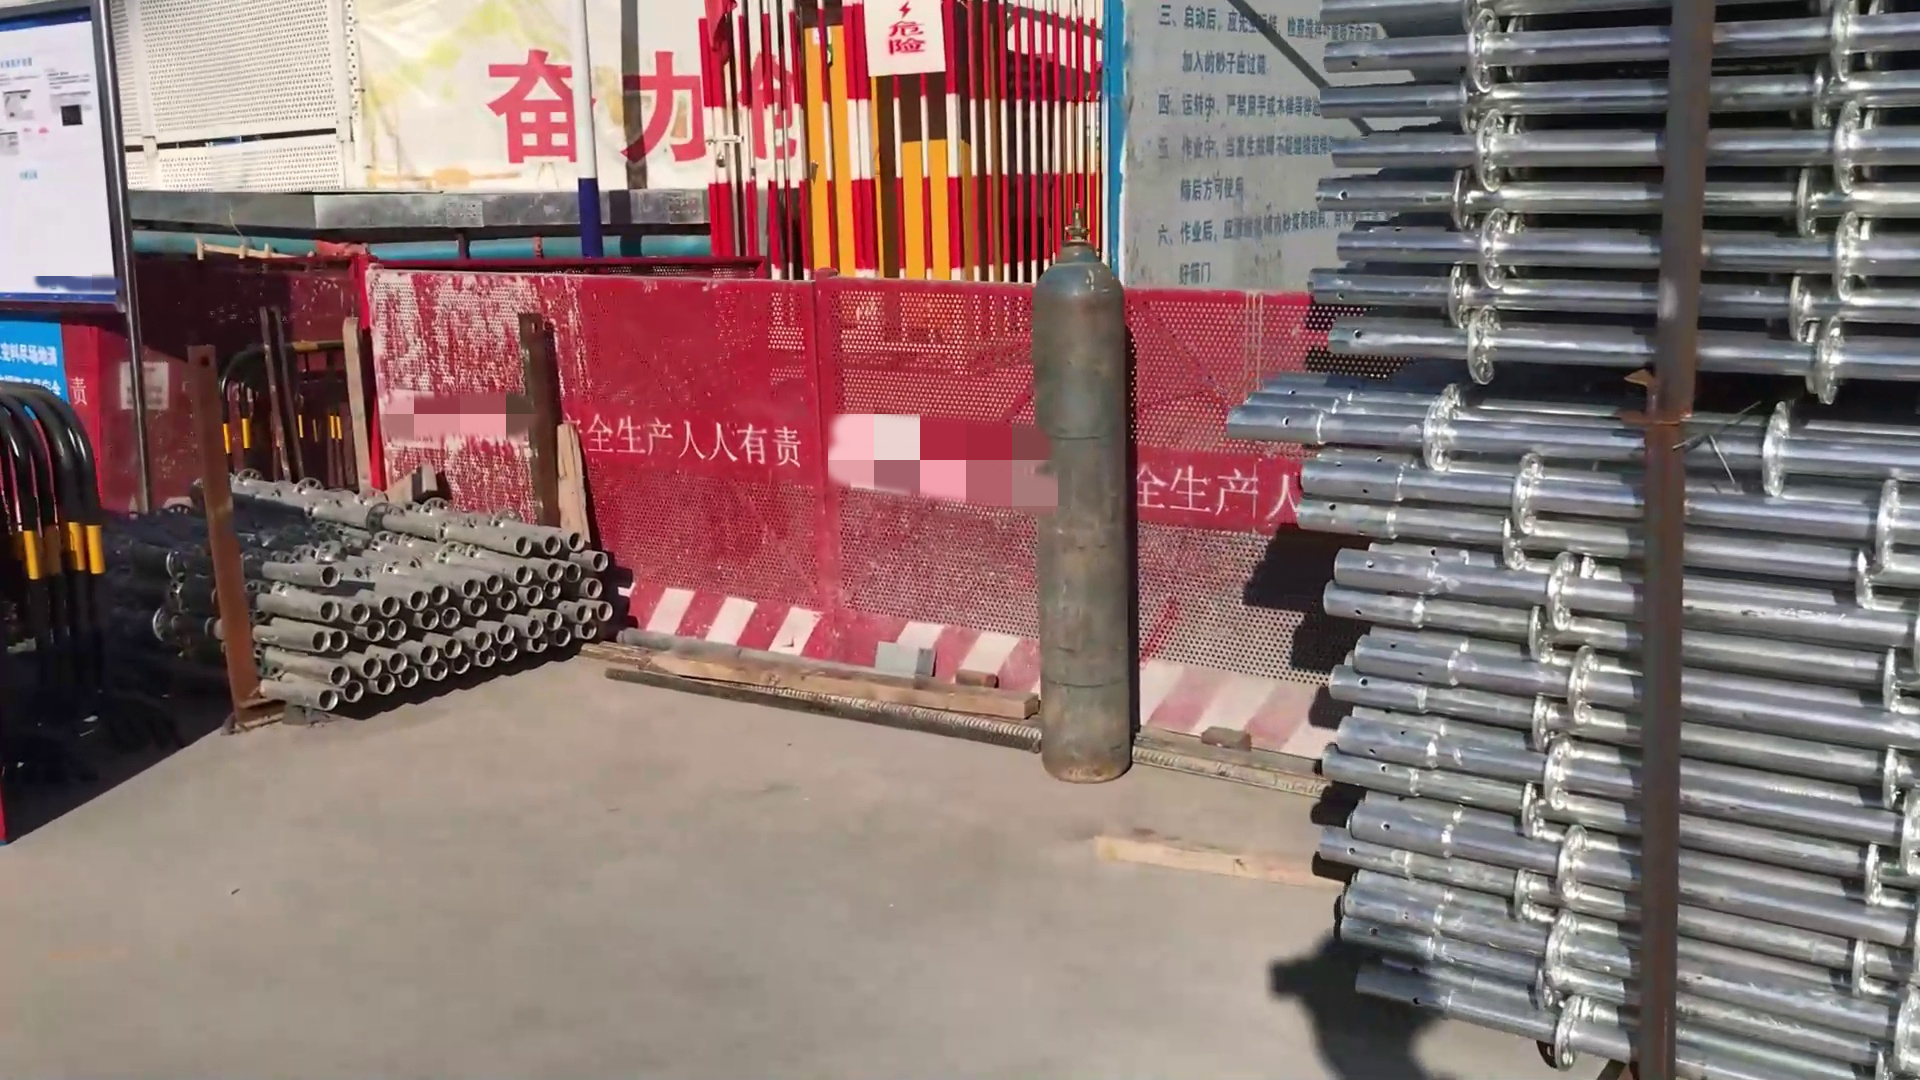fence: (348, 260, 1273, 746), (746, 7, 1100, 268), (3, 376, 115, 735)
scaffold: (1274, 1, 1920, 1065), (140, 483, 638, 717)
slogan: (869, 1, 935, 65)
